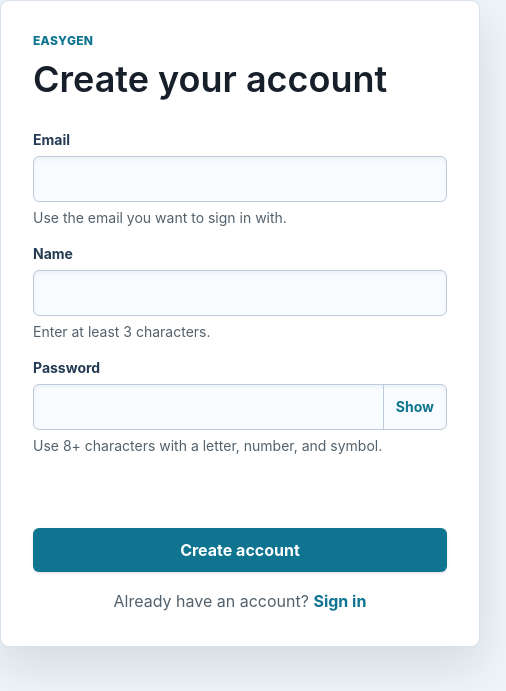
Scenario: SignupPage › shows client-side validation messages
Expected: the heading "Create your account" is shown, [33,57,447,102]
What coordinates should you click on to do the following:
click the button "Create account"
I would click on:
 (240, 550)
Its box is [33,528,447,572].
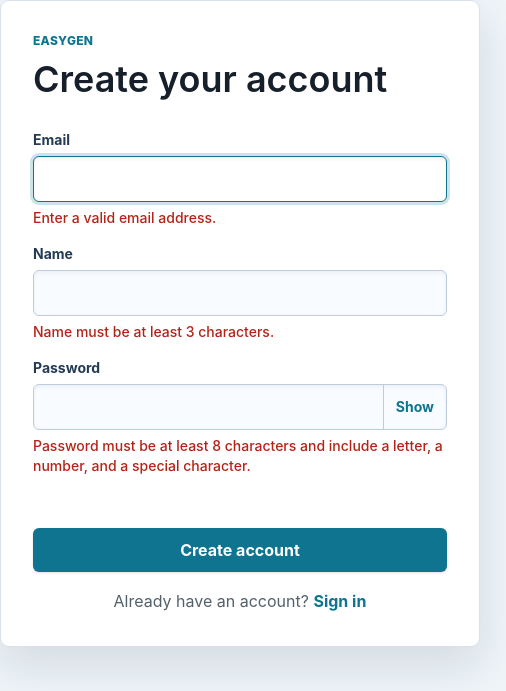
Now the text "Enter a valid email address." is shown, box [33,209,216,226]
Now the text "Name must be at least 3 characters." is shown, box [33,323,274,340]
Now the text "Password must be at least 8 characters and include a letter, a number, and a special character." is shown, box [33,437,443,474]
